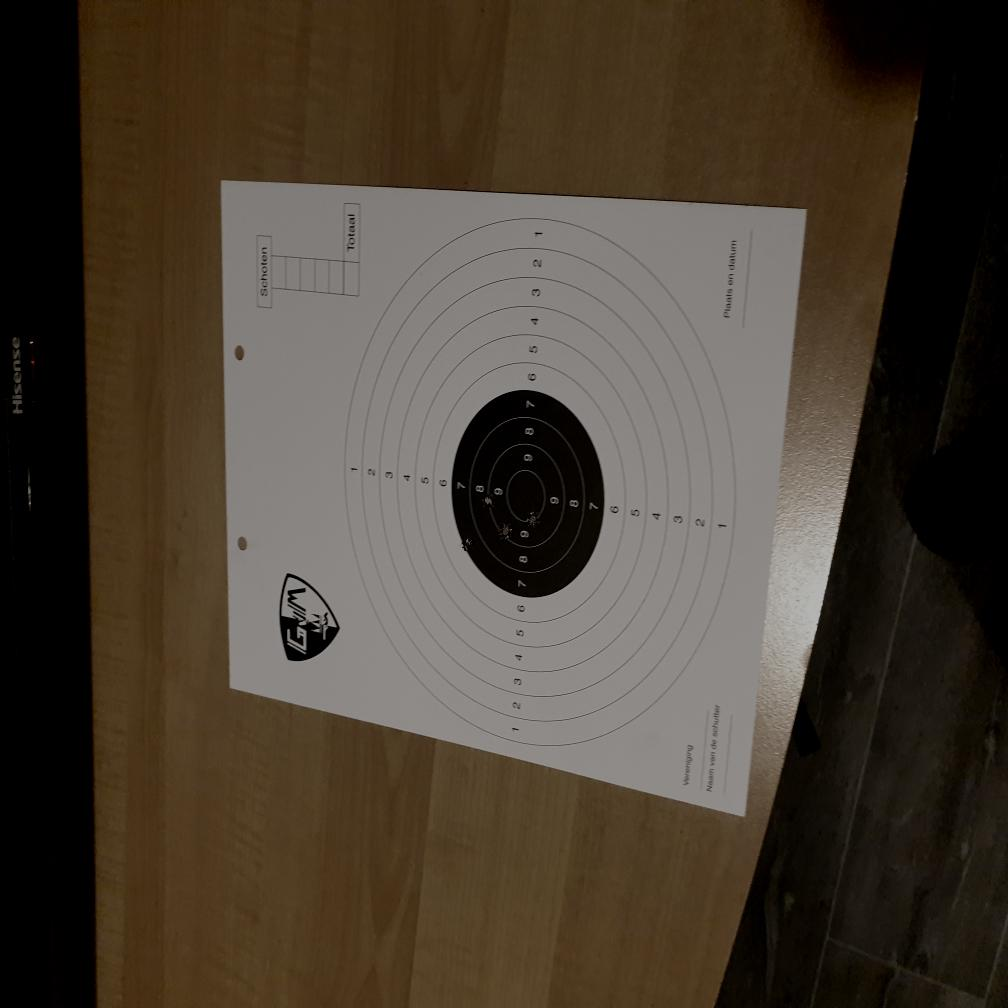10: (526, 509, 541, 527)
7: (462, 536, 474, 551)
9: (498, 522, 513, 541), (482, 495, 494, 509)
Target: (344, 217, 736, 746)
black_contour: (451, 390, 604, 597)
